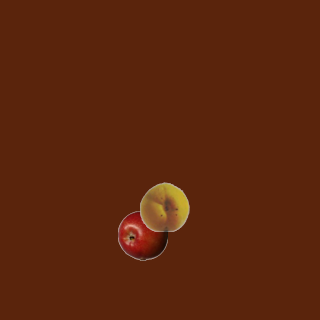Apple Braeburn: (117, 210, 167, 260)
Peach 2: (139, 181, 189, 231)
